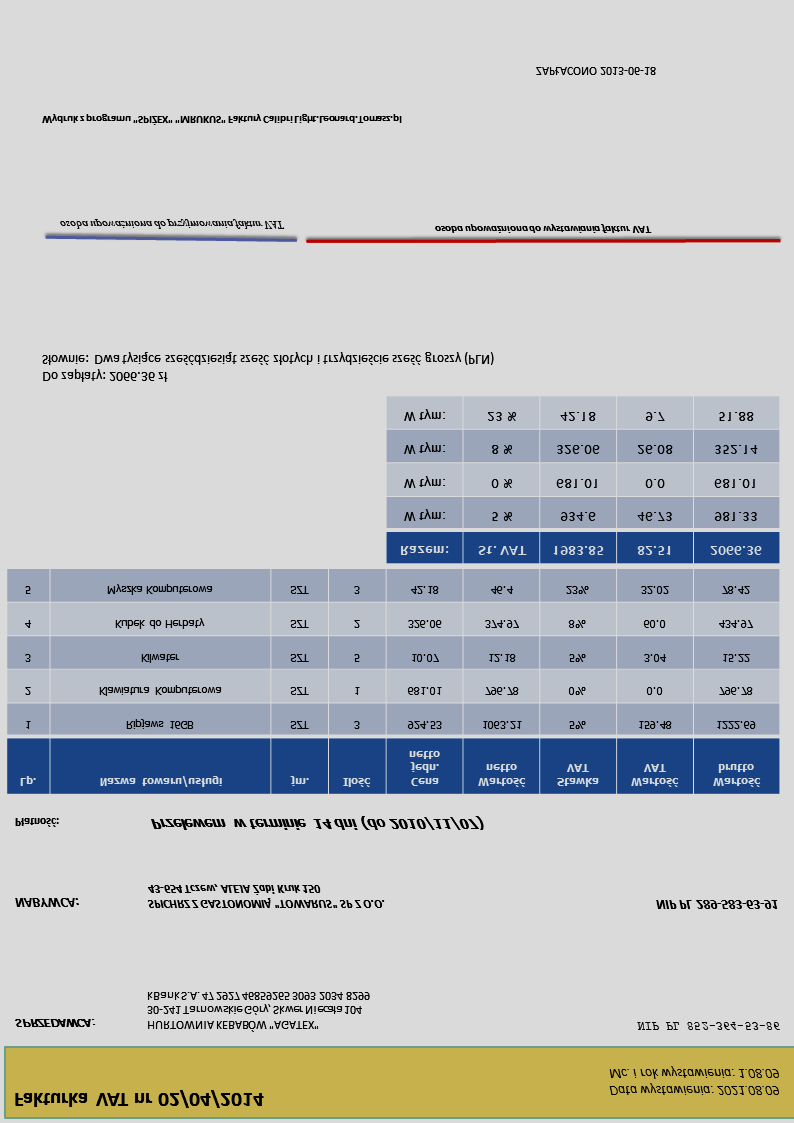Table: (5, 568, 780, 796), (385, 395, 780, 566)
TextBox: (39, 349, 495, 385), (144, 990, 372, 1033), (145, 882, 386, 913), (147, 813, 486, 833), (607, 1065, 783, 1099), (12, 1088, 266, 1110), (40, 112, 405, 127), (434, 221, 652, 237), (57, 217, 286, 232), (633, 1018, 782, 1035), (654, 897, 781, 912), (533, 65, 660, 79), (13, 1017, 96, 1032), (11, 895, 82, 912), (11, 816, 61, 830)
